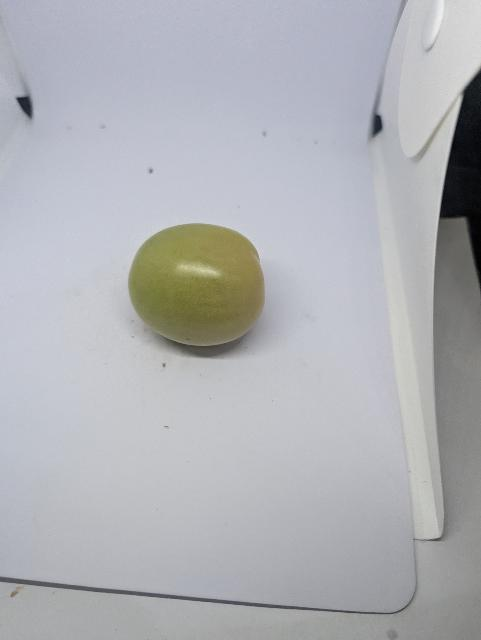green: (113, 216, 296, 376)
